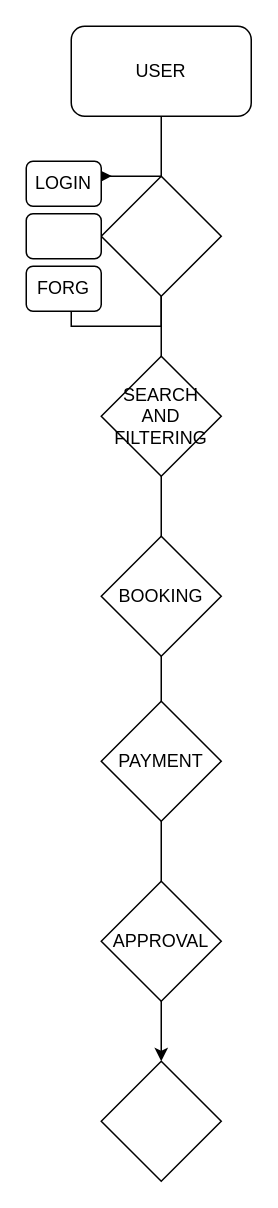
Some shapes in this 278 by 1208 pixel diagram are drawn without their labels. The box of each missing label's shape, as (x1, y1, x2, y2) in pixels:
AUTH: (100, 175, 221, 296)
NOTIFICATION: (100, 1060, 221, 1181)
REG: (25, 212, 101, 259)
